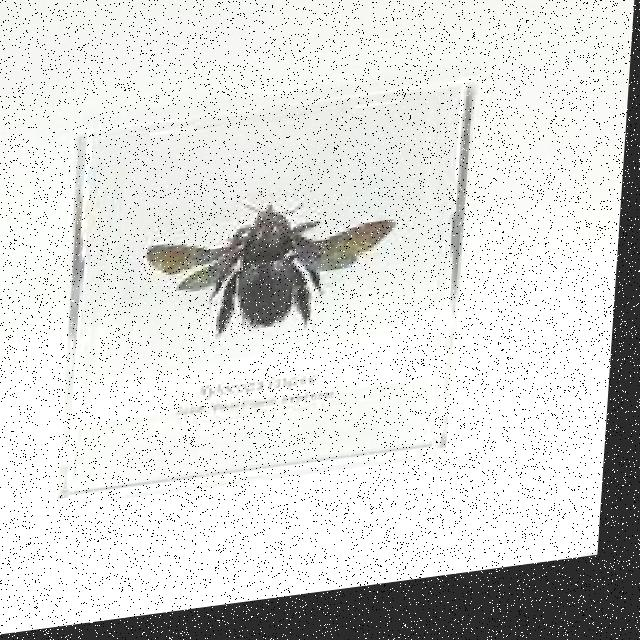Xylocopa: (123, 173, 439, 370)
